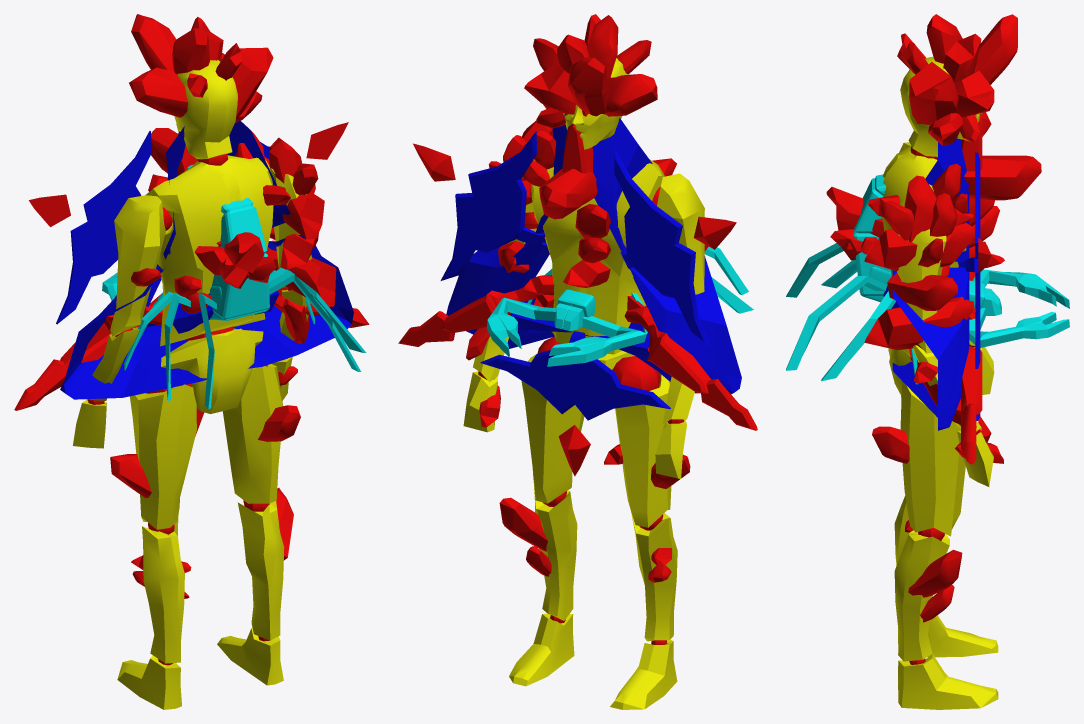
File: Enemies.fbx
3 renders of one model, left to right at view 1: azimuth 30°, elevation 25°; view 2: azimuth 150°, elevation 25°; view 3: azimuth 270°, elevation 25°, orthographic.
Visible parts, largest first — view 1: S_Enemy_Corrupted, S_Enemy_Oracle, S_Enemy_Scorpion; view 2: S_Enemy_Corrupted, S_Enemy_Oracle, S_Enemy_Scorpion; view 3: S_Enemy_Corrupted, S_Enemy_Scorpion, S_Enemy_Oracle.
Part boxes in pixels (x1,y1,x2,y2): S_Enemy_Corrupted: (73, 14, 336, 709); S_Enemy_Oracle: (14, 120, 369, 436); S_Enemy_Scorpion: (102, 128, 366, 408); S_Enemy_Corrupted: (463, 14, 708, 709); S_Enemy_Oracle: (398, 110, 757, 476); S_Enemy_Scorpion: (486, 158, 753, 366); S_Enemy_Corrupted: (864, 14, 1017, 709); S_Enemy_Scorpion: (786, 155, 1069, 384); S_Enemy_Oracle: (883, 65, 991, 464).
Bounding box in the file's own units: 120 × 83.4 × 214.
